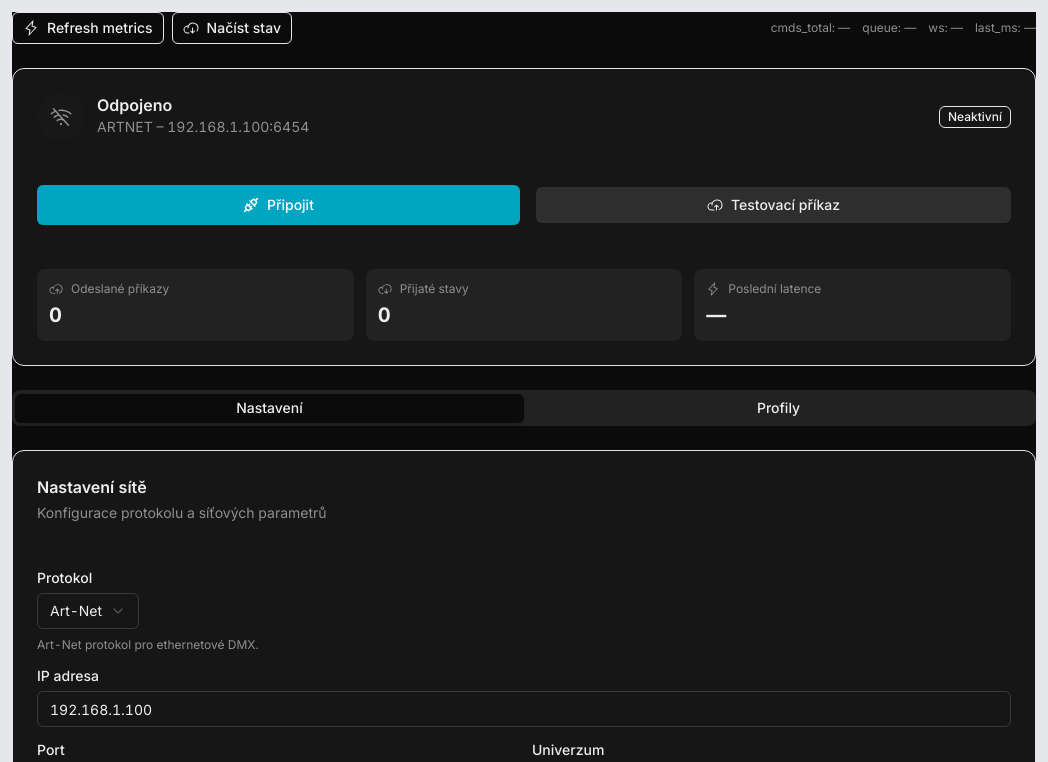
ConnectionView › handles WebSocket state updates and metrics
The width and height of the screenshot is (1048, 762).
Click the button "Připojit" at x=278, y=205, box [37,185,520,225]
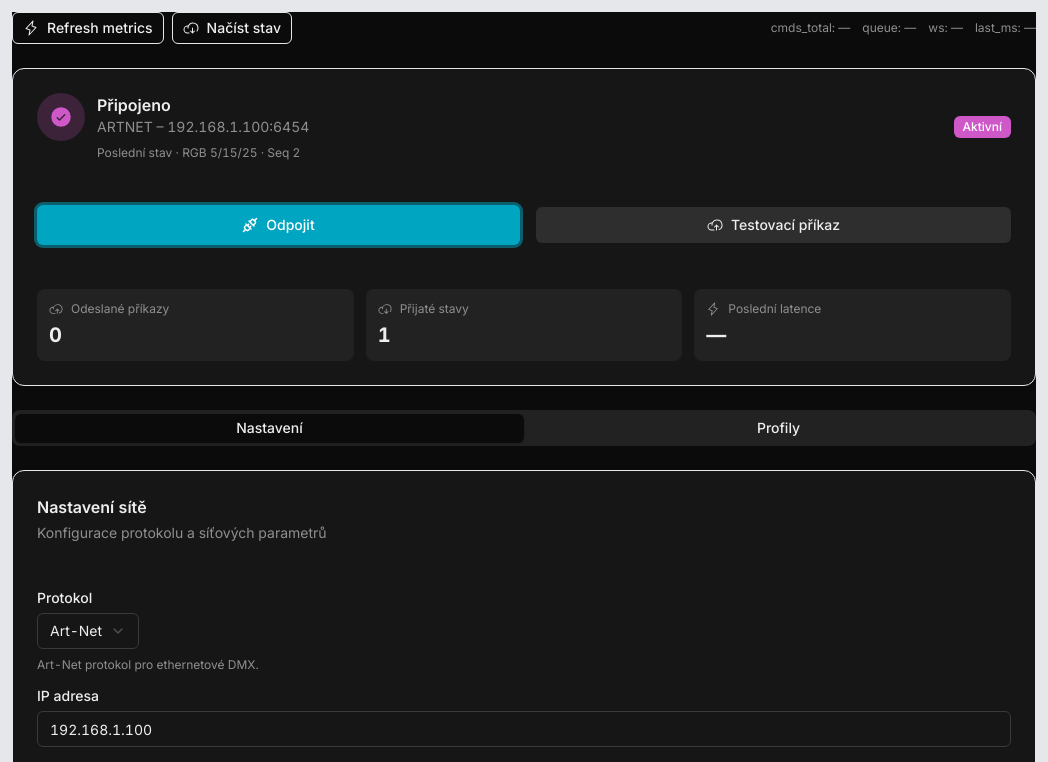
Expected: the text "Poslední stav · RGB 5/15/25 · Seq 2" is shown, [97,145,309,161]
Click the button "Testovací příkaz" at x=774, y=225, box [536,207,1011,243]
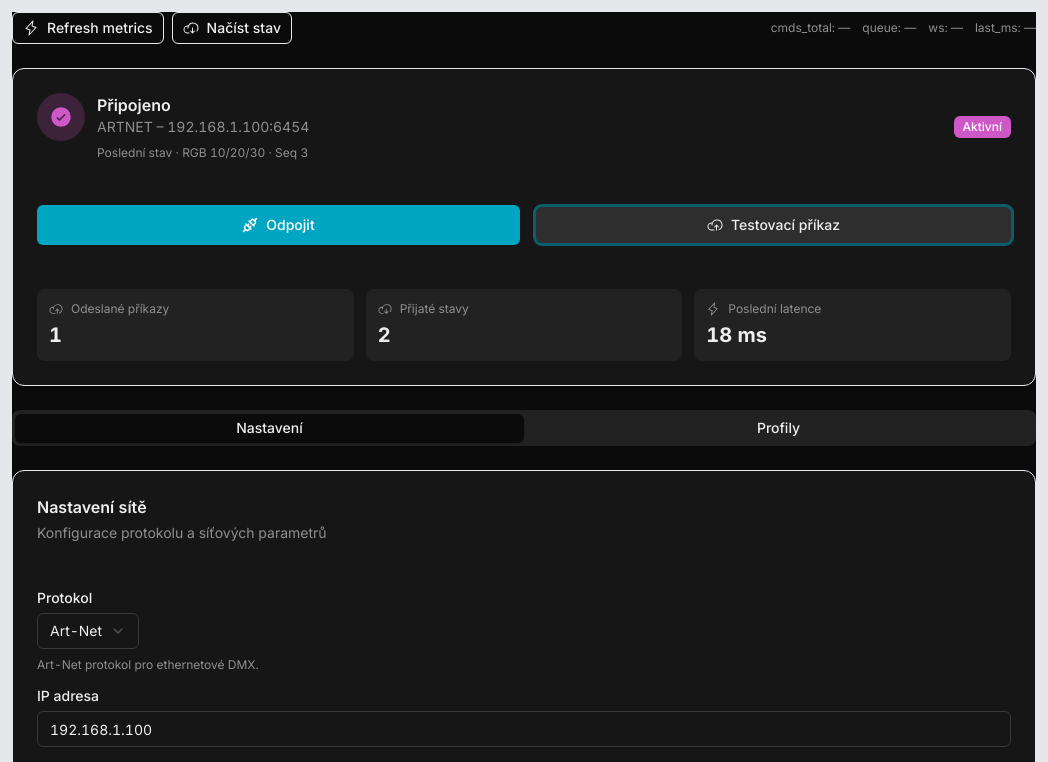
Expected: the text with test id "packets-sent" reads "1", [49,323,62,347]
Expected: the text with test id "packets-received" reads "2", [378,323,391,347]
